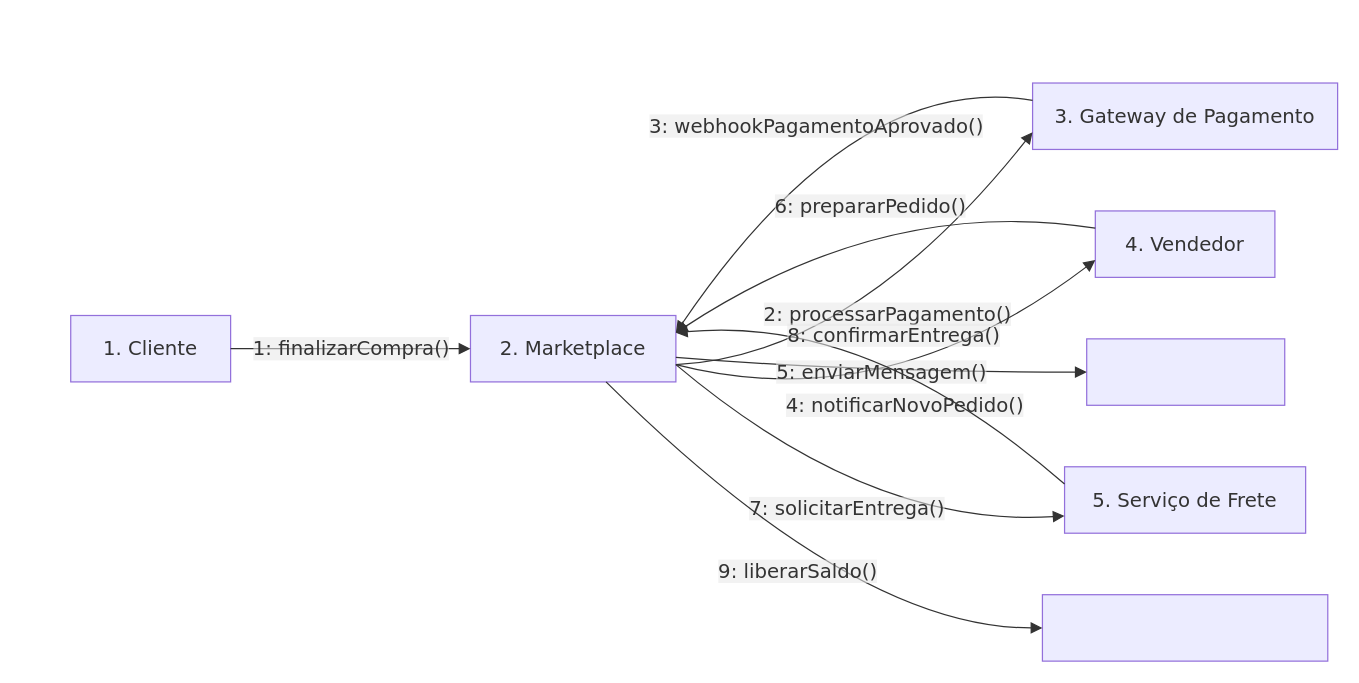
Image size: 1359x683. Some labels were removed from this diagram. The shapes that lost their labels are listed below. From the top down, each one's box as (x1, y1, x2, y2) in pixels, then its label:
(1085, 338, 1285, 405): 6. Notificação
(1041, 593, 1328, 661): 7. Carteira do Vendedor
